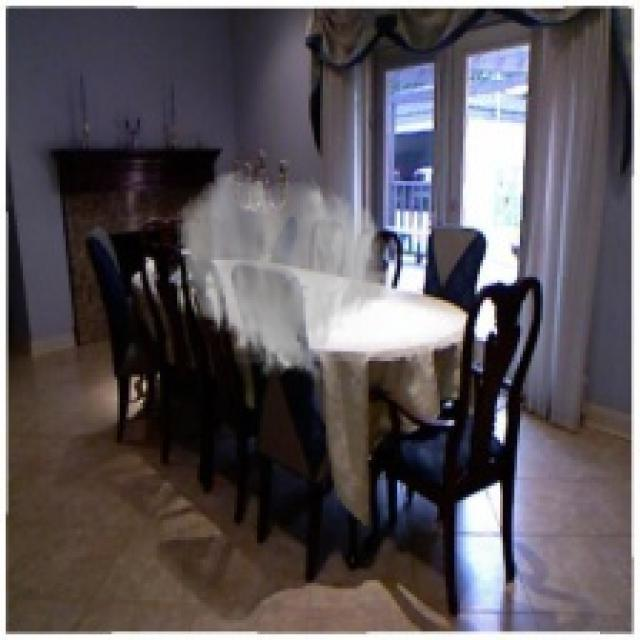Smoke: (174, 166, 394, 386)
